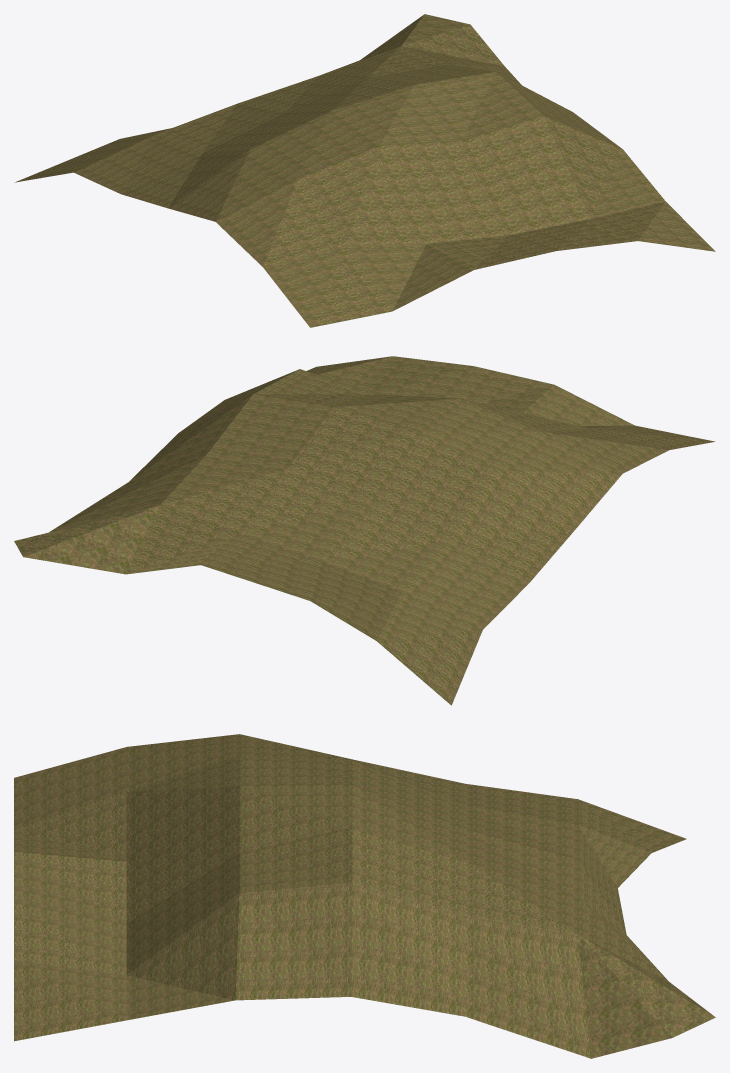
File: cs_landbit_70_a.obj
3 views of the same model, one above another, from view 1: azimuth 30°, elevation 25°; view 2: azimuth 150°, elevation 25°; view 3: azimuth 270°, elevation 25° (orthographic). The views are drawn at different scales.
Visible parts, largest first — view 1: cs_landbit_70_A; view 2: cs_landbit_70_A; view 3: cs_landbit_70_A.
Boxes of the visible parts, x1=… form: cs_landbit_70_A: x1=15, y1=14, x2=715, y2=327; cs_landbit_70_A: x1=14, y1=356, x2=714, y2=705; cs_landbit_70_A: x1=14, y1=734, x2=715, y2=1058.
Size of the model in its own units: 173 by 50.37 by 196.
1 material, 1 textured.
